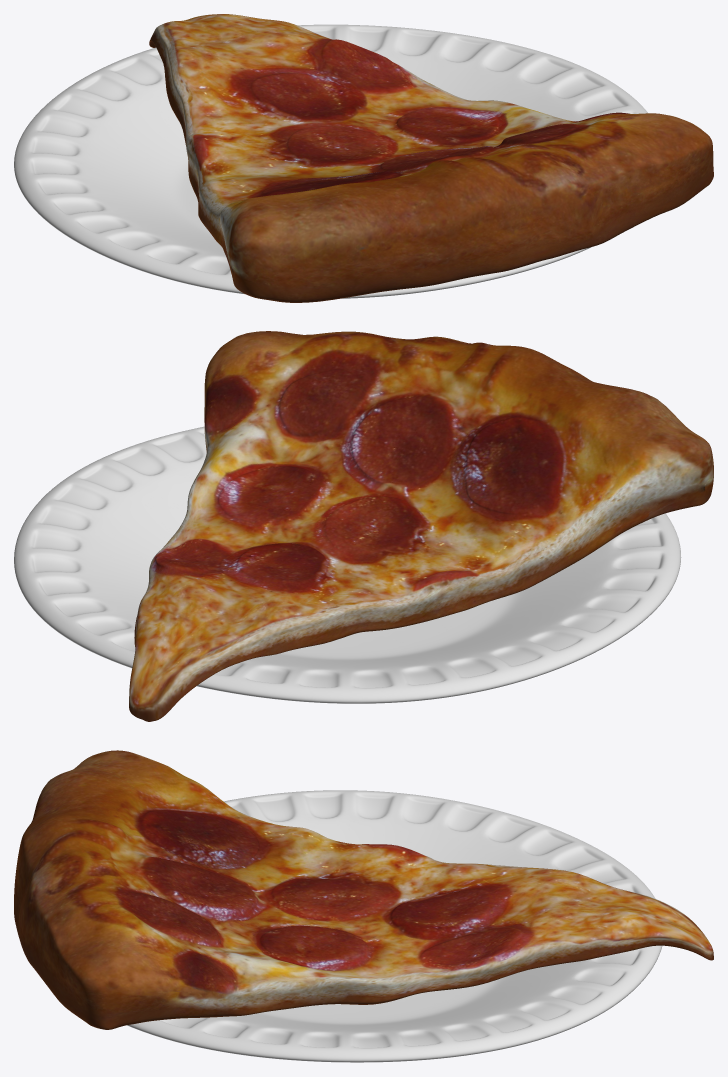
File: pizza.glb
The picture shows the model from 3 angles, top to bottom: view 1: azimuth 30°, elevation 25°; view 2: azimuth 150°, elevation 25°; view 3: azimuth 270°, elevation 25°; orthographic projection. The views are drawn at different scales.
Visible parts, largest first — view 1: 13917_Pepperoni_v2_l2; view 2: 13917_Pepperoni_v2_l2; view 3: 13917_Pepperoni_v2_l2.
Boxes of the visible parts, left/top/right/bottom form: 13917_Pepperoni_v2_l2: left=14, top=14, right=713, bottom=302; 13917_Pepperoni_v2_l2: left=14, top=331, right=713, bottom=721; 13917_Pepperoni_v2_l2: left=14, top=750, right=713, bottom=1062.
Bounding box in the file's own units: 13 × 3.34 × 14.34.
Materials: 2 (2 with a texture image).
